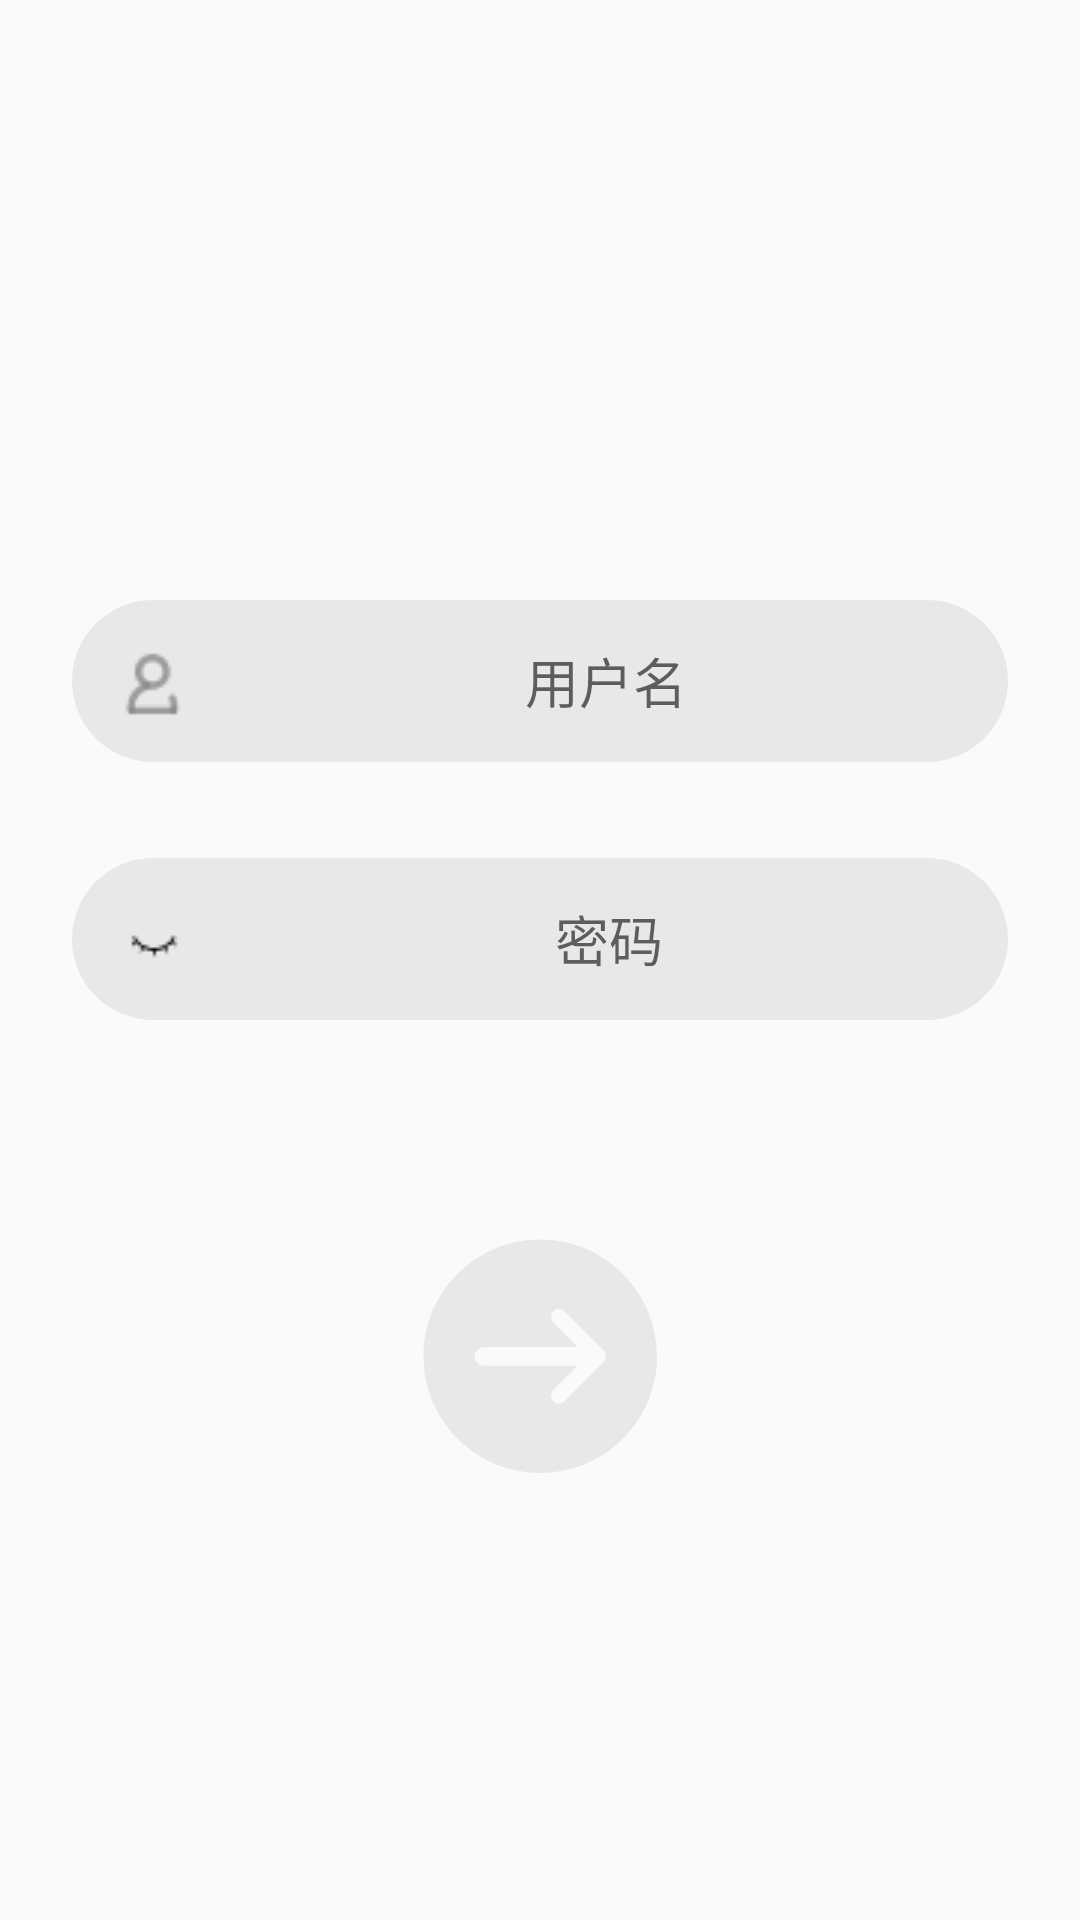

Where icons sit on this 1080w x 1920h app screen, as (x1, y1, x2, y2):
check password: (131, 935, 178, 957)
user: (126, 653, 178, 715)
